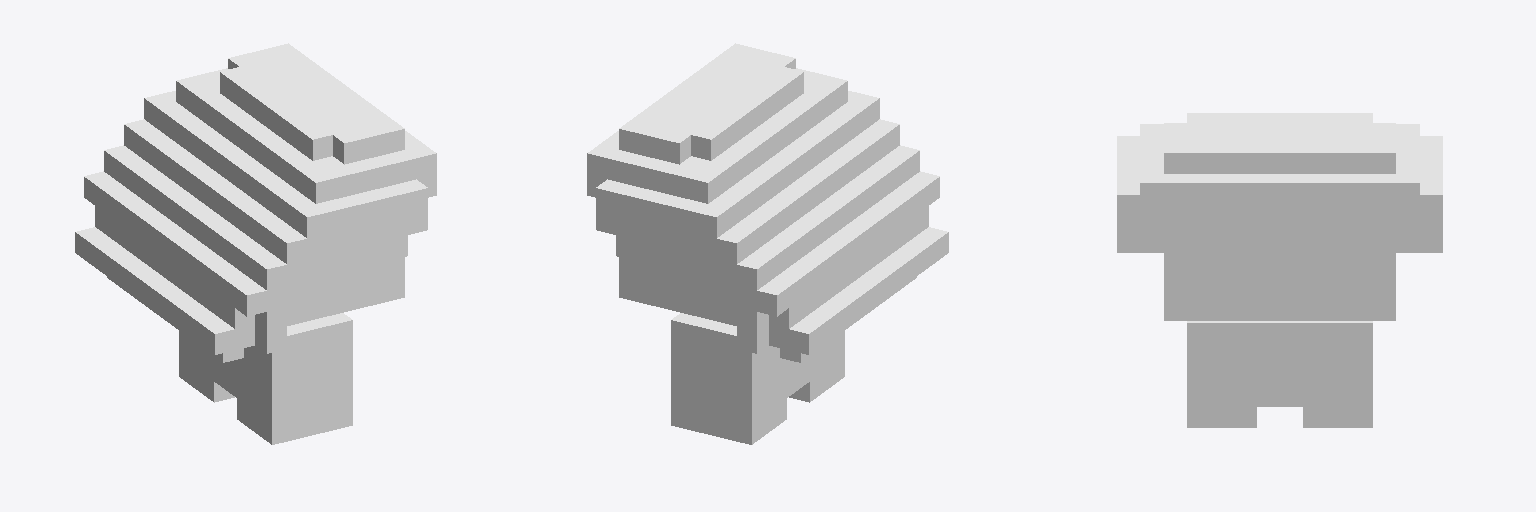
The model's file is perso1-2.obj.
3 renders of one model, left to right at view 1: azimuth 30°, elevation 25°; view 2: azimuth 150°, elevation 25°; view 3: azimuth 270°, elevation 25°, orthographic.
Visible parts, largest first — view 1: object 1; view 2: object 1; view 3: object 1.
Boxes of the visible parts, x1,y1,x2,y2 form: object 1: [75, 43, 436, 444]; object 1: [587, 43, 948, 444]; object 1: [1117, 113, 1442, 427].
Bounding box in the file's own units: 1.1 × 1.4 × 1.4.